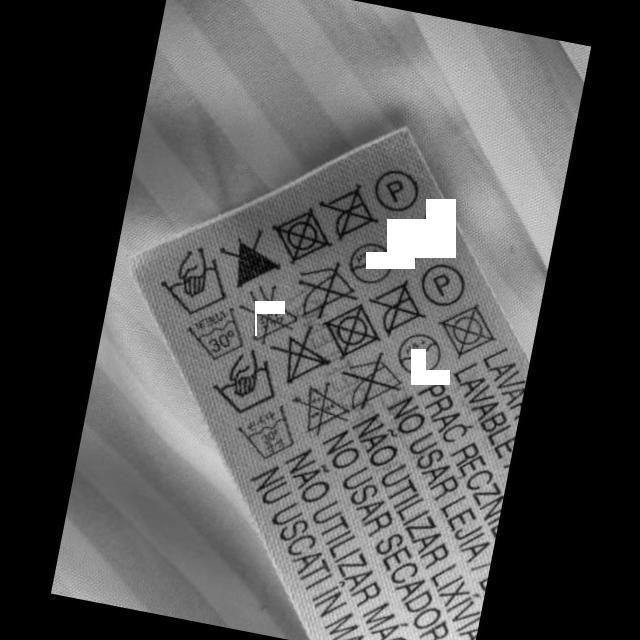30C: (226, 395, 303, 468), (179, 298, 254, 370)
DN_bleach: (204, 220, 290, 300), (258, 314, 340, 397), (281, 373, 357, 446)
DN_iron: (286, 252, 366, 332), (308, 172, 387, 252), (332, 342, 411, 422), (359, 269, 434, 348)
DN_tumble_dry: (258, 195, 341, 276), (312, 294, 388, 371), (427, 295, 504, 369)
hand_wash: (147, 238, 237, 326), (200, 337, 288, 426)
normal_dry_clean_solvents: (365, 164, 425, 218), (415, 258, 471, 314)
